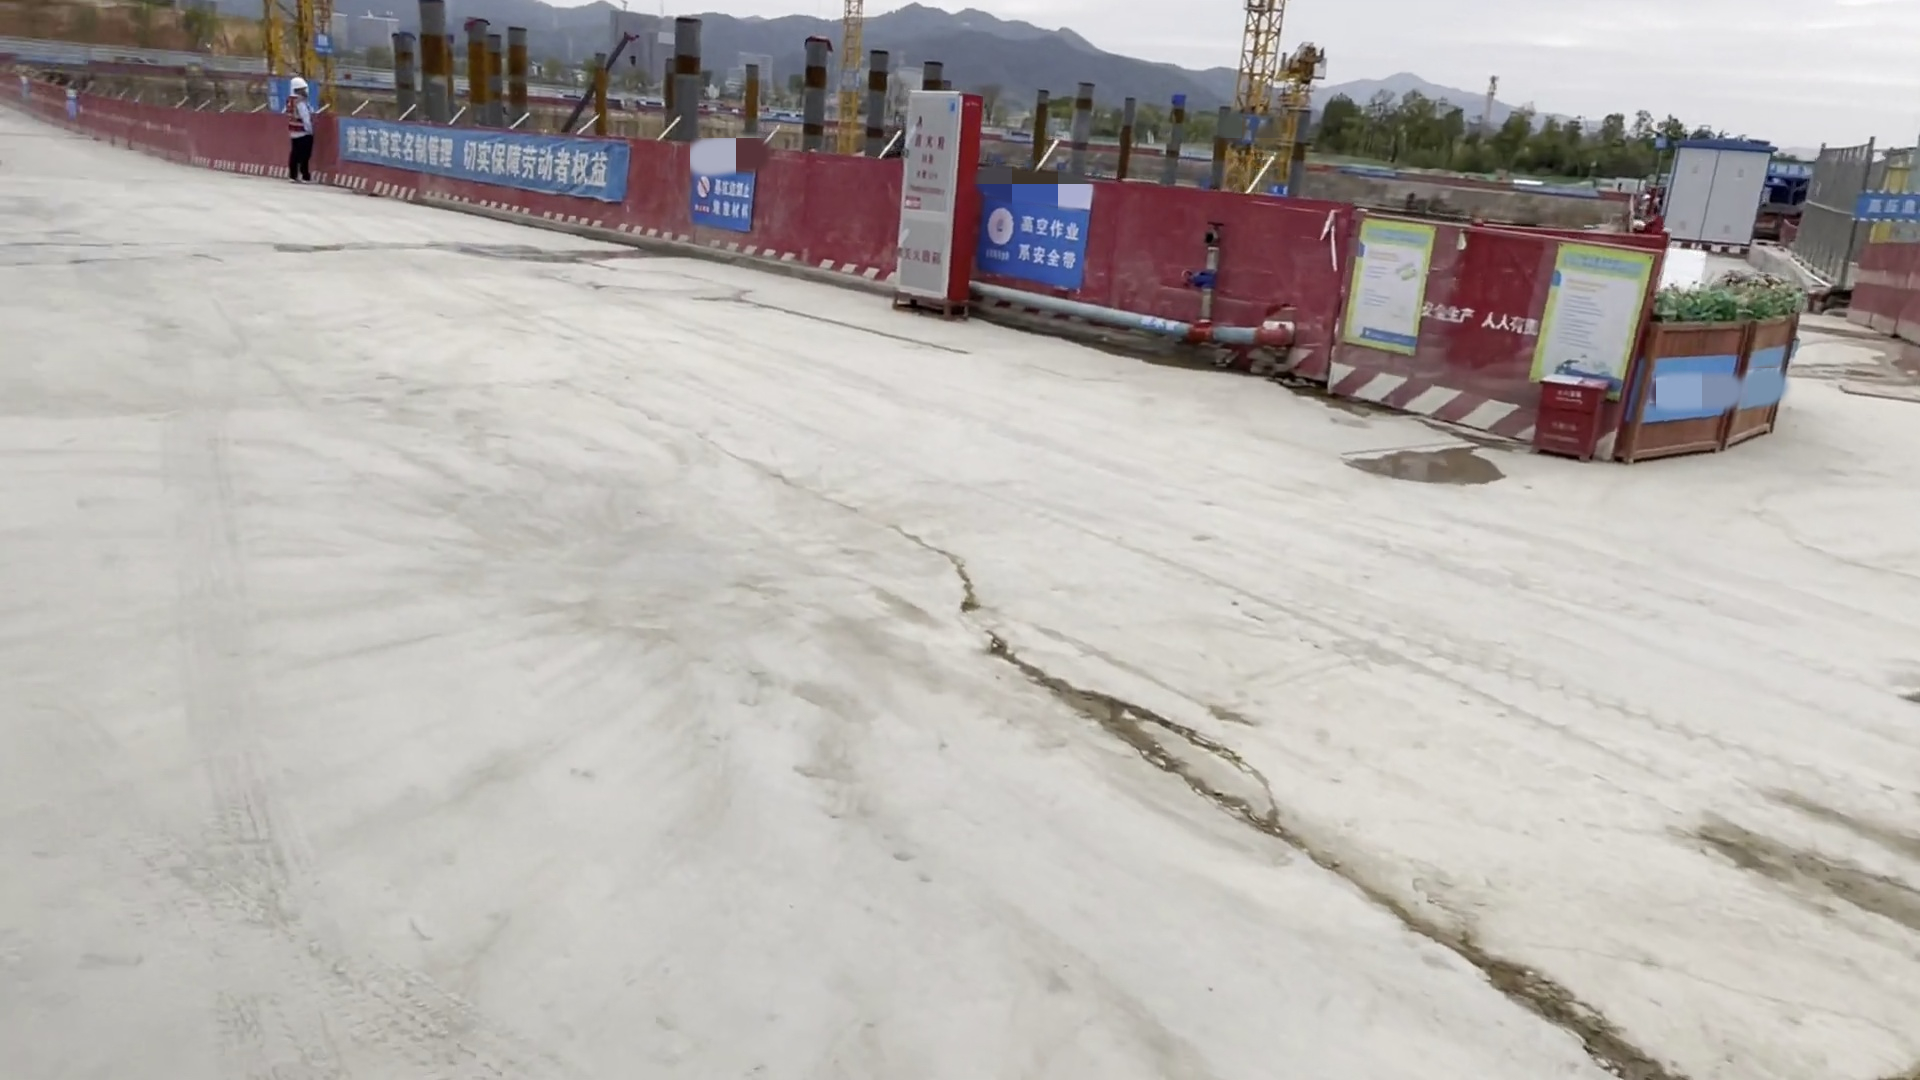fence: (984, 165, 1673, 464)
helmet: (290, 76, 308, 89)
person: (281, 76, 330, 186)
slogan: (334, 112, 629, 211), (978, 206, 1089, 291), (688, 176, 752, 232)
